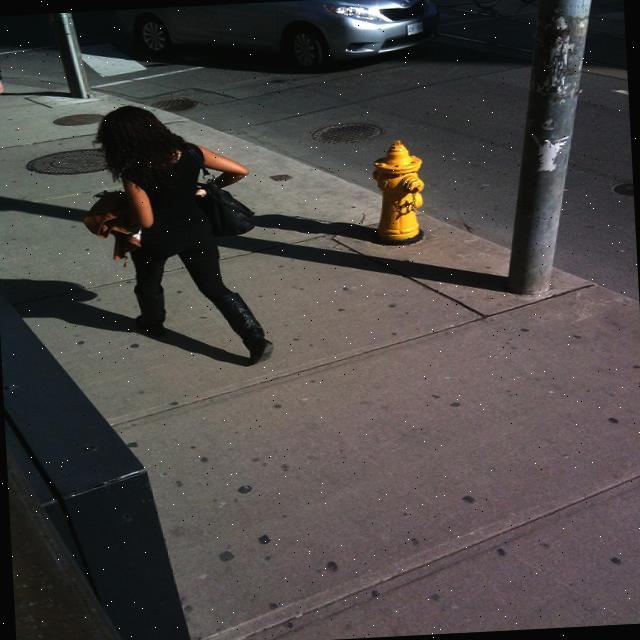fire_hydrant: (370, 139, 426, 246)
